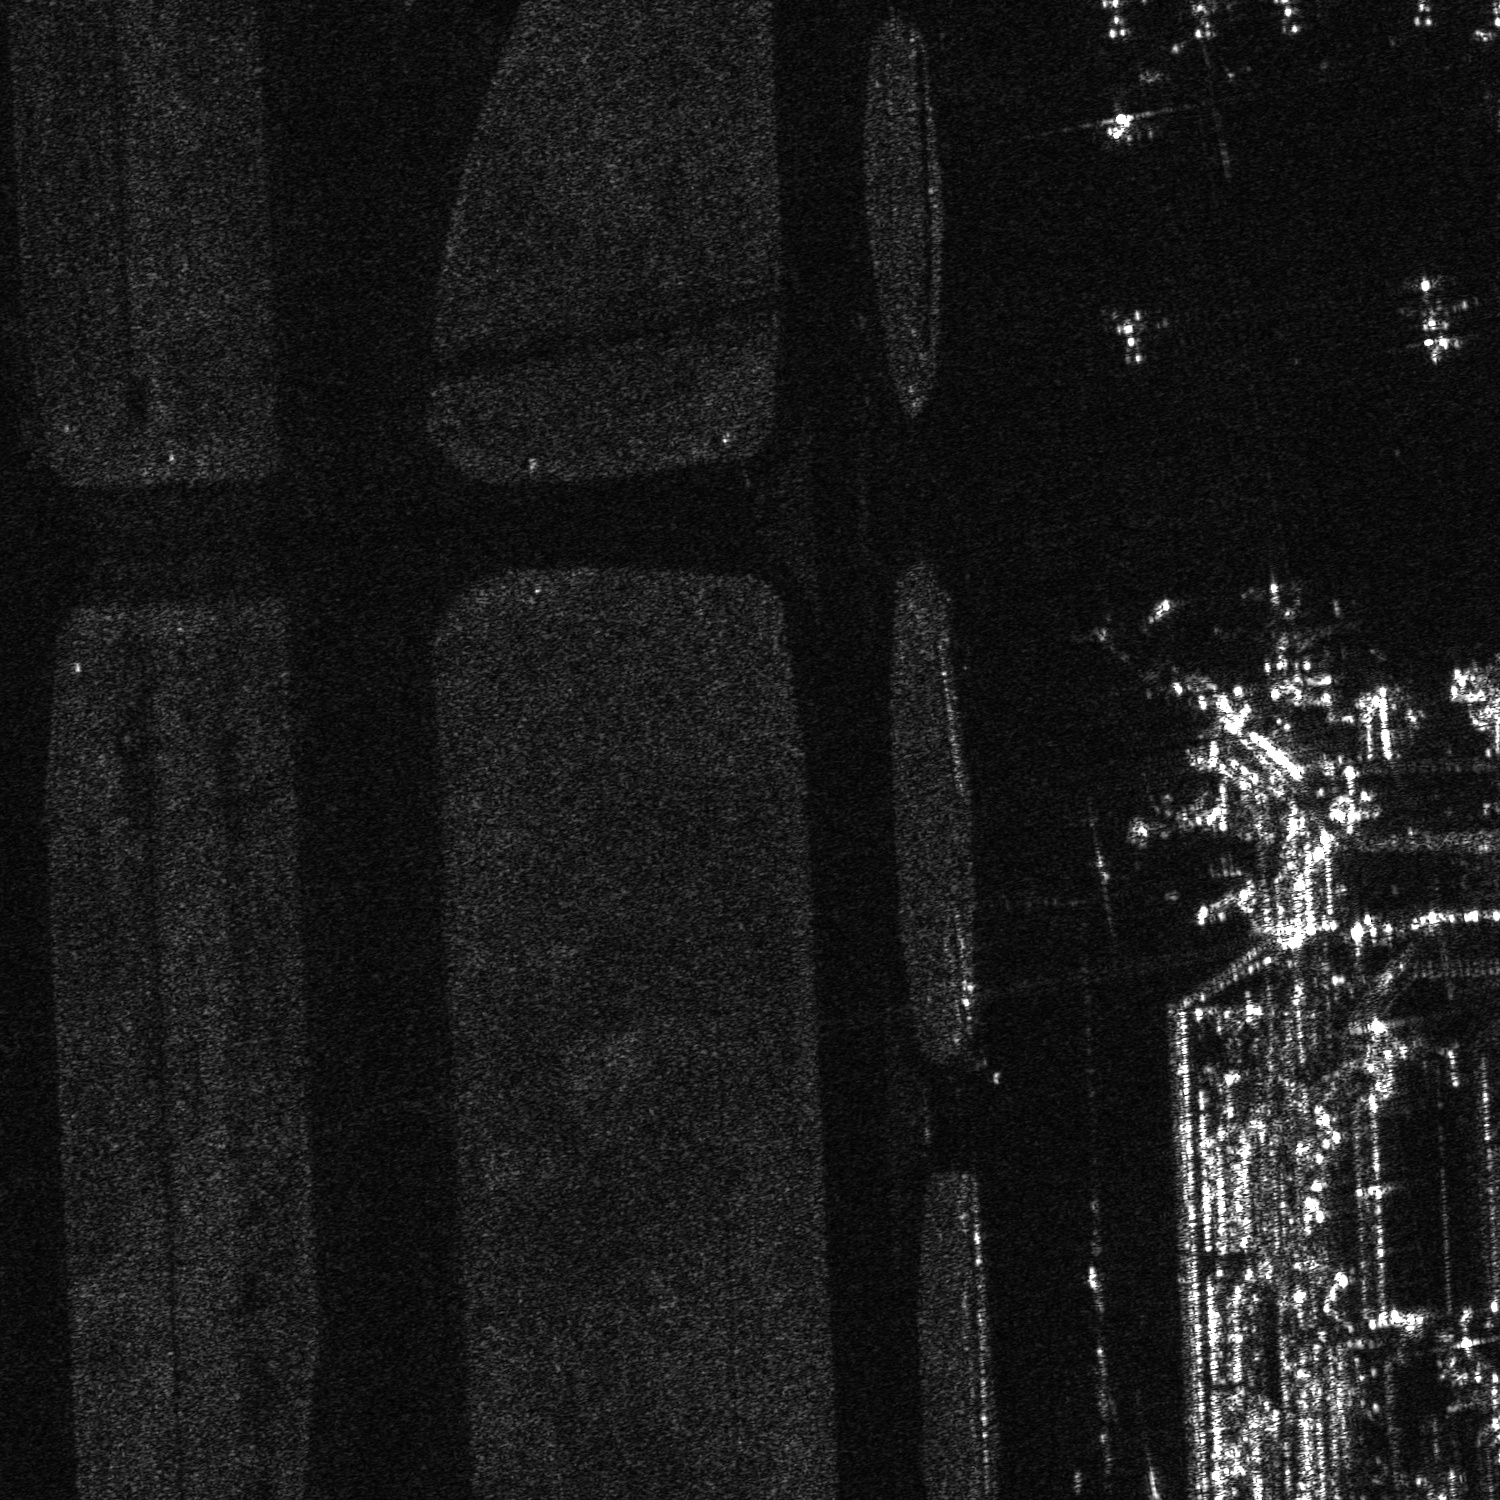ARJ21: (1102, 298, 1157, 374), (1098, 98, 1152, 144)
other: (1243, 571, 1331, 707), (1389, 266, 1486, 368)
